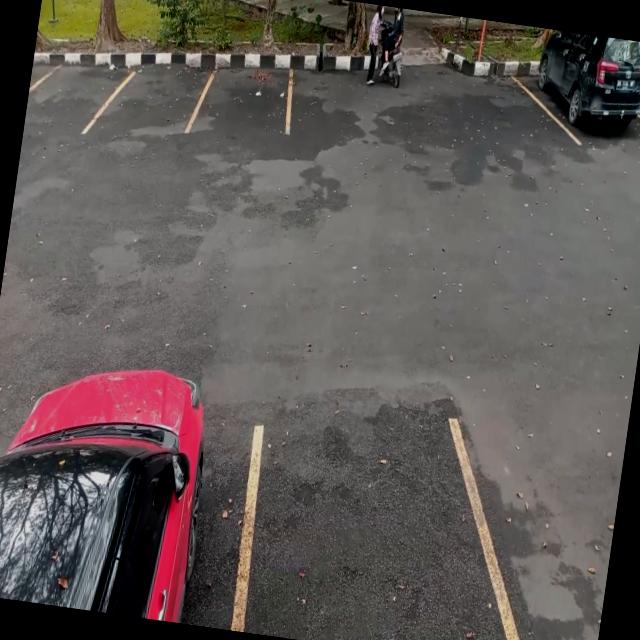car: (529, 28, 640, 150)
free: (228, 389, 498, 640), (107, 36, 213, 146), (197, 38, 300, 151), (24, 30, 120, 136)
